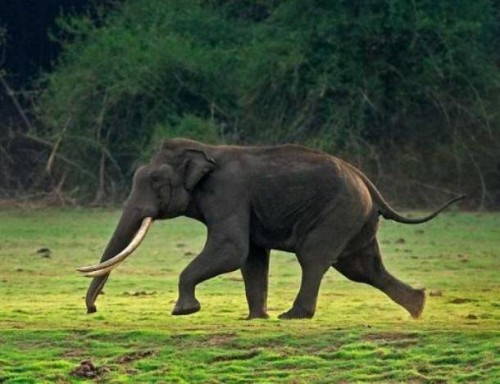elephant: (86, 136, 442, 326)
